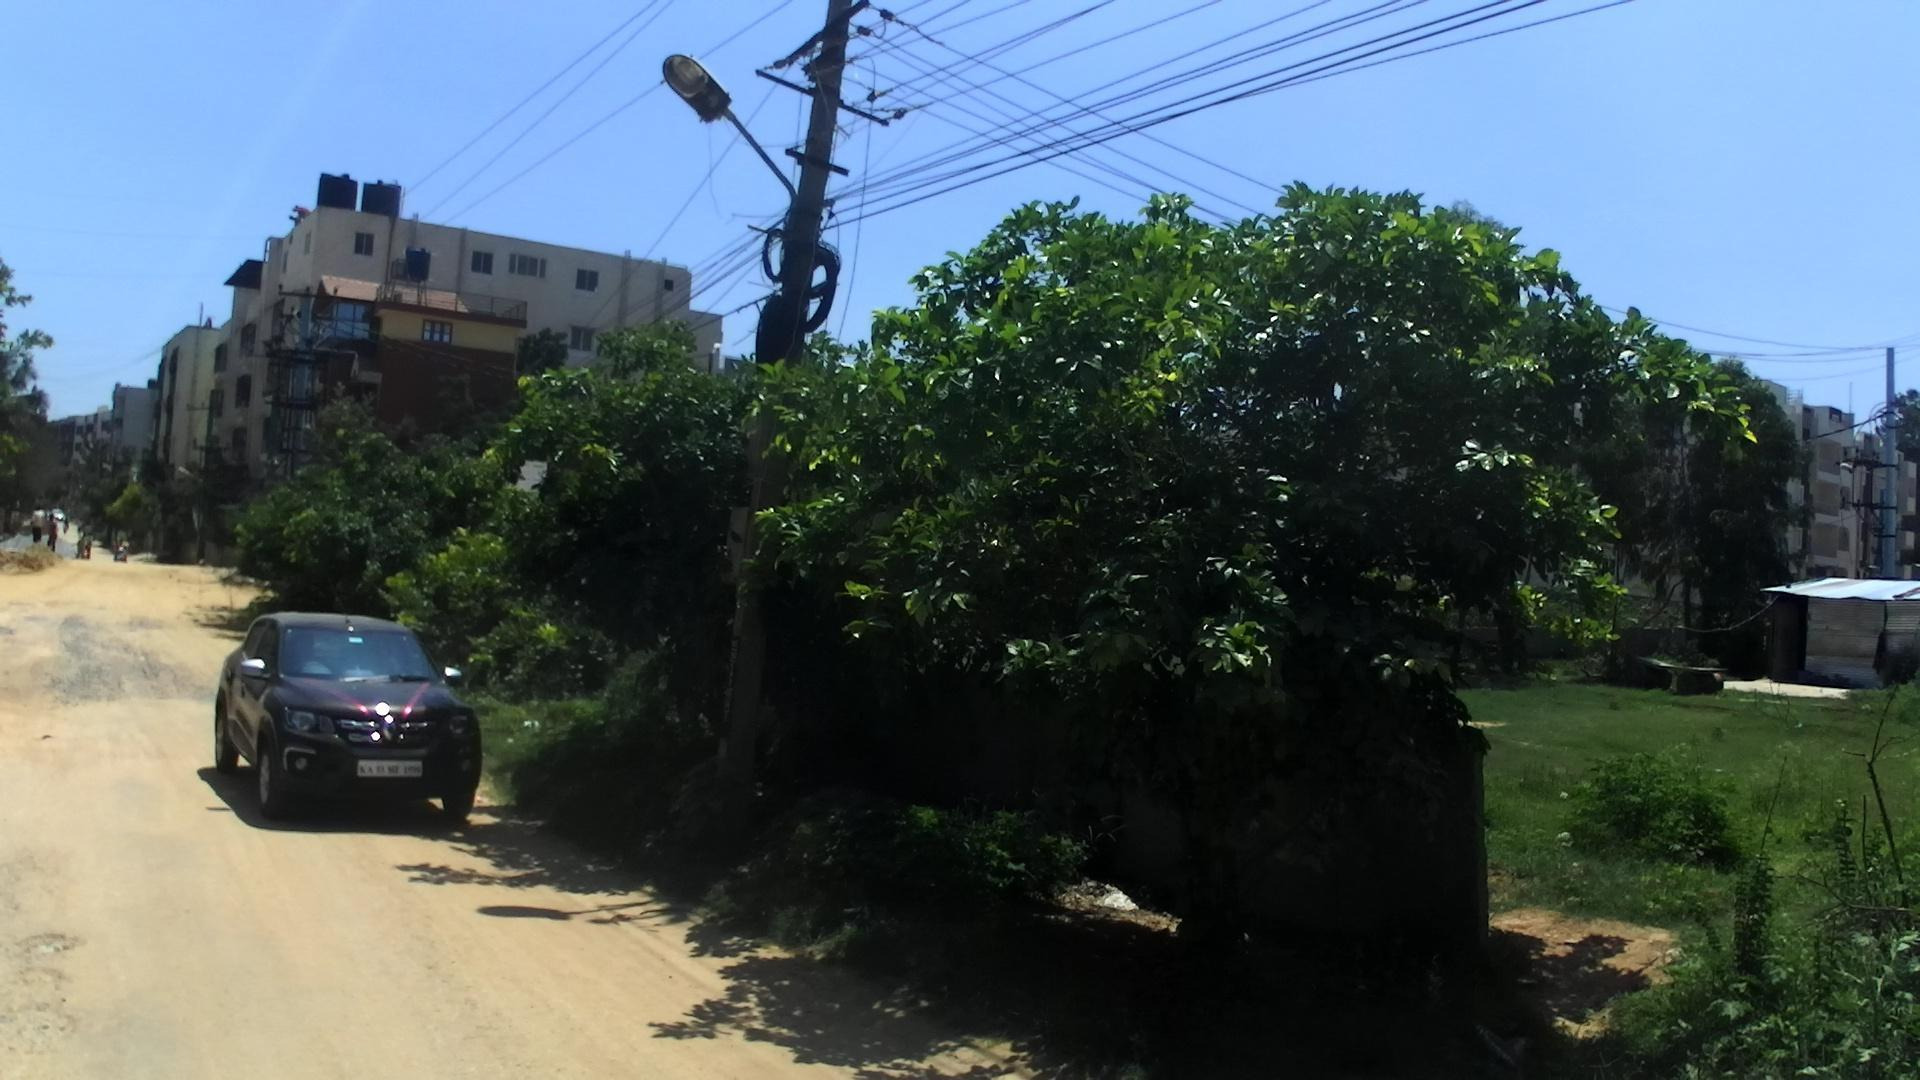off: (0, 0, 1838, 1004)
